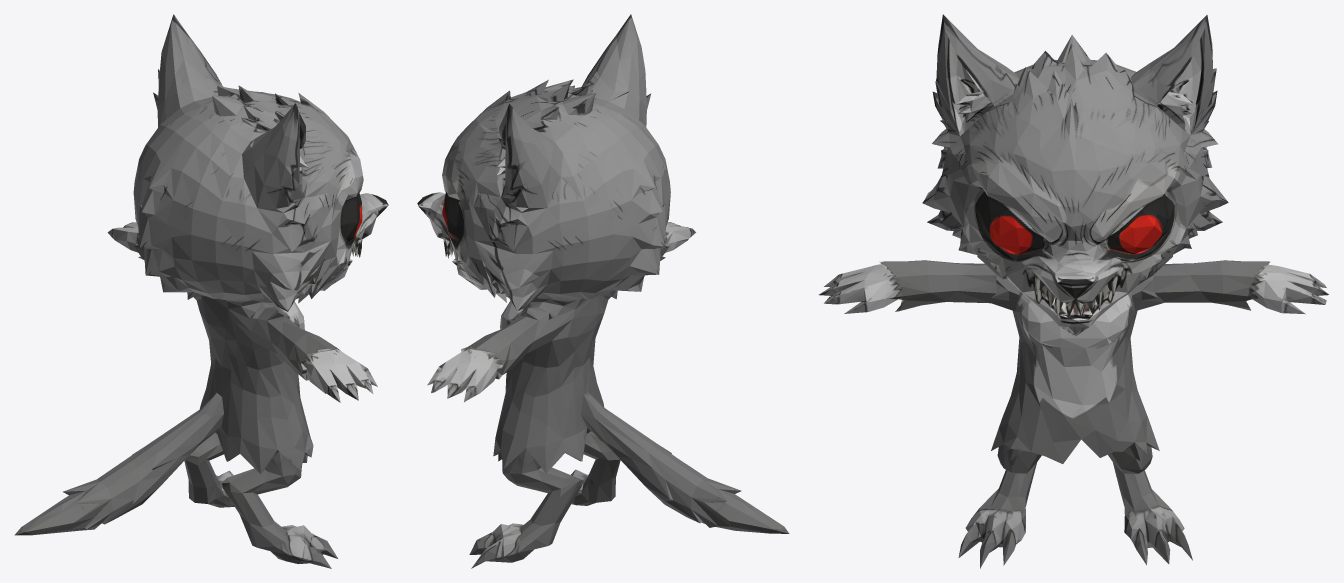
3 views of the same model, side by side, from view 1: azimuth 30°, elevation 25°; view 2: azimuth 150°, elevation 25°; view 3: azimuth 270°, elevation 25° (orthographic). The views are drawn at different scales.
Visible parts, largest first — view 1: tripo_node_4e21bf8c-d79d-43fd-b9f3-91b175fd31d6; view 2: tripo_node_4e21bf8c-d79d-43fd-b9f3-91b175fd31d6; view 3: tripo_node_4e21bf8c-d79d-43fd-b9f3-91b175fd31d6.
Boxes of the visible parts, x1,y1,x2,y2 form: tripo_node_4e21bf8c-d79d-43fd-b9f3-91b175fd31d6: (14, 14, 388, 568); tripo_node_4e21bf8c-d79d-43fd-b9f3-91b175fd31d6: (417, 14, 789, 568); tripo_node_4e21bf8c-d79d-43fd-b9f3-91b175fd31d6: (819, 14, 1328, 568).
Bounding box in the file's own units: 0.8004 × 0.9994 × 0.8854.
Materials: 1 (1 with a texture image).
